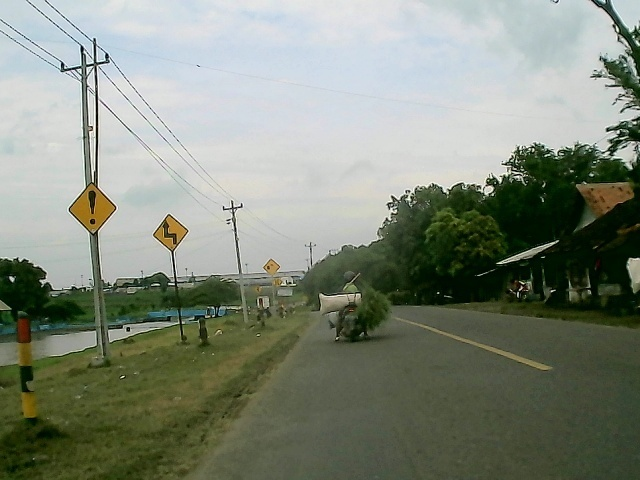Hati-hati: (66, 181, 119, 236)
Peringatan tepi air: (261, 258, 281, 277)
Tikungan garda pertama kiri: (152, 212, 190, 251)
